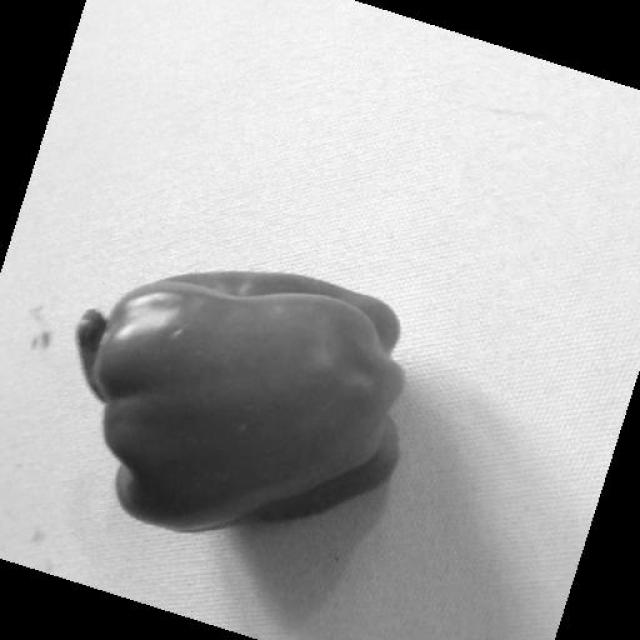Fresh_Capsicum: (85, 296, 429, 505)
